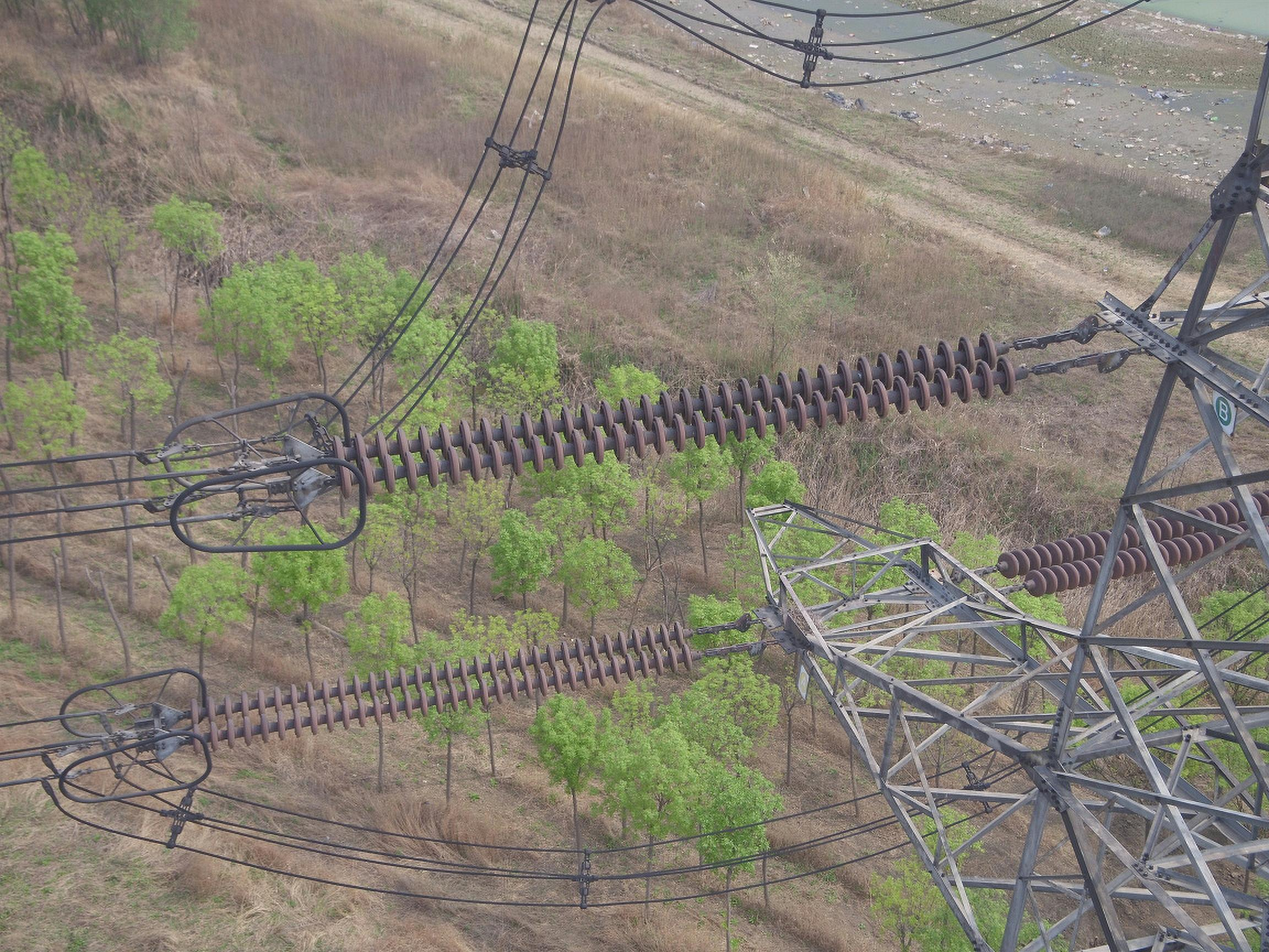insulator: (325, 327, 1022, 502), (181, 617, 697, 760), (994, 482, 1269, 602)
